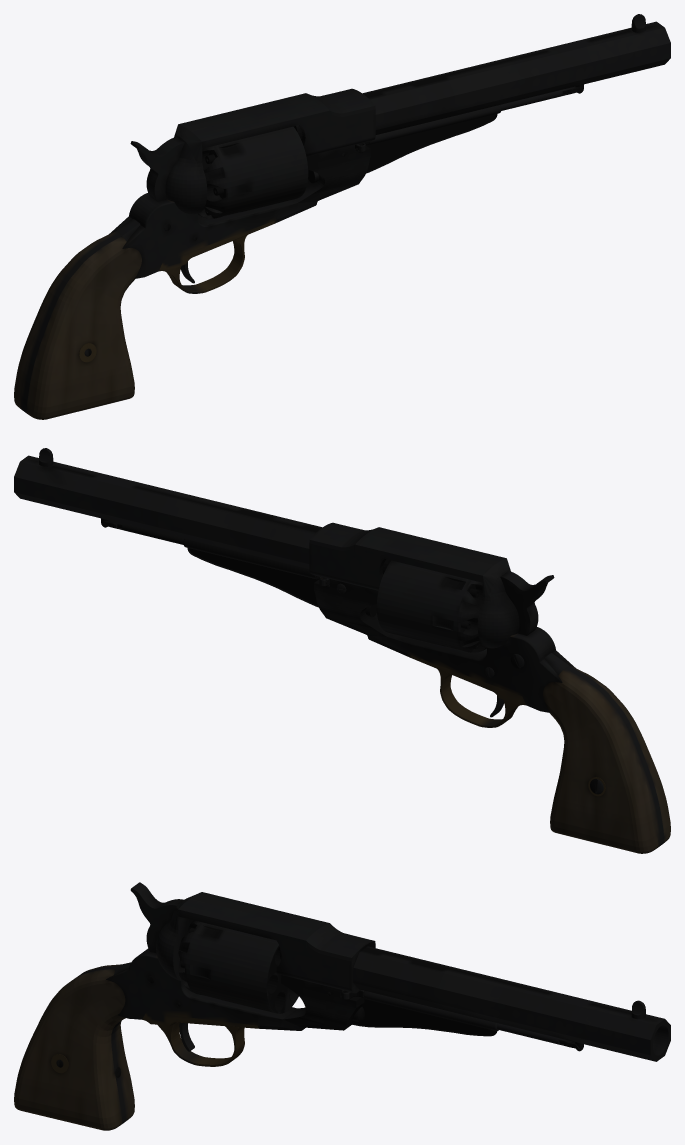
The model's file is revolver.obj.
3 views of the same model, one above another, from view 1: azimuth 30°, elevation 25°; view 2: azimuth 150°, elevation 25°; view 3: azimuth 330°, elevation 25° (orthographic).
Visible parts, largest first — view 1: Revolver; view 2: Revolver; view 3: Revolver.
Part boxes in pixels (x1,y1,x2,y2): Revolver: (14,14,670,419); Revolver: (14,448,670,853); Revolver: (14,882,670,1130).
Bounding box in the file's own units: 0.3654 × 0.1363 × 0.0413.
Materials: 1 (1 with a texture image).
